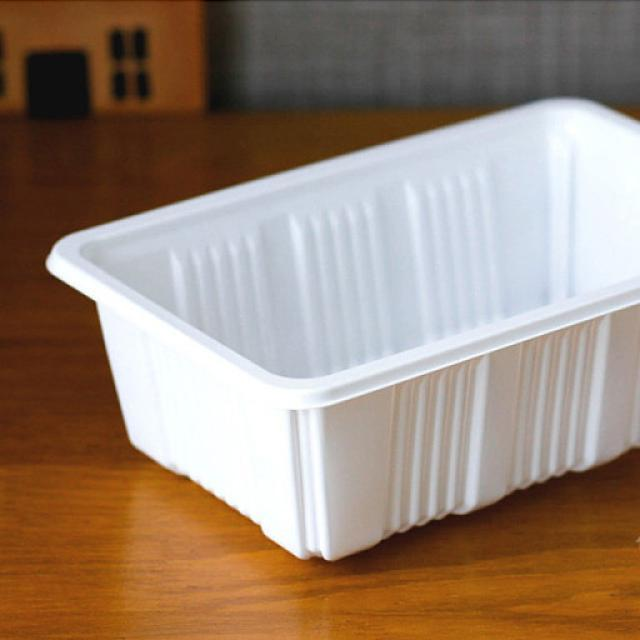bottle: (0, 89, 640, 580)
